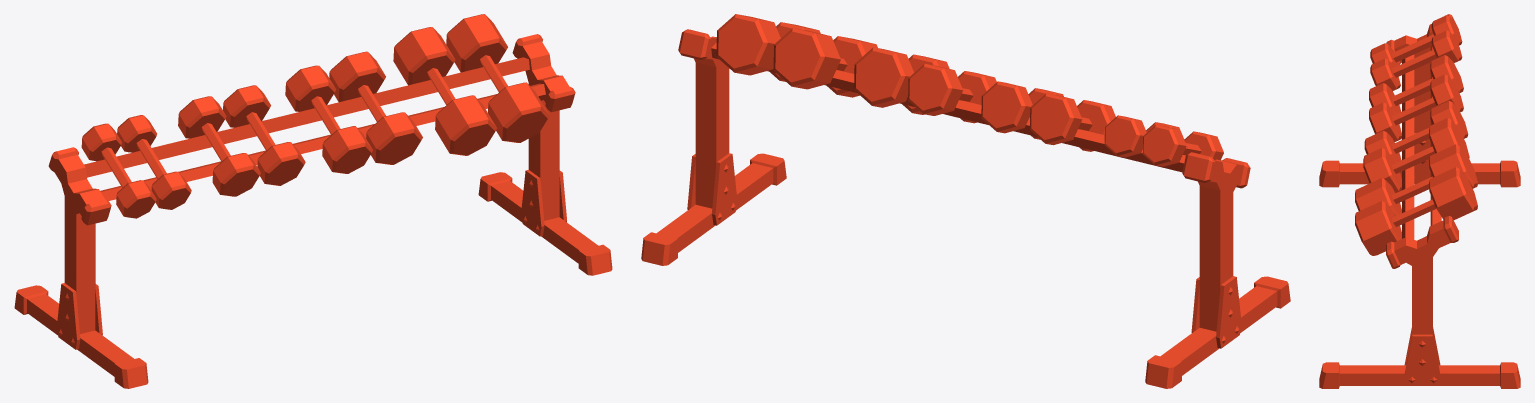
The model's file is SM_Dumbbell_Stand_Gym_City.fbx.
The picture shows the model from 3 angles, left to right: view 1: azimuth 30°, elevation 25°; view 2: azimuth 150°, elevation 25°; view 3: azimuth 270°, elevation 25°; orthographic projection. The views are drawn at different scales.
Parts seen in each view (by area): view 1: SM_Dumbbell_Stand_Gym_City; view 2: SM_Dumbbell_Stand_Gym_City; view 3: SM_Dumbbell_Stand_Gym_City.
Boxes of the visible parts, box(x1,y1,x2,y2) form: SM_Dumbbell_Stand_Gym_City: box(14, 14, 612, 388); SM_Dumbbell_Stand_Gym_City: box(641, 14, 1290, 388); SM_Dumbbell_Stand_Gym_City: box(1319, 14, 1520, 388).
Size of the model in its own units: 1.99 by 0.8201 by 0.7888.
